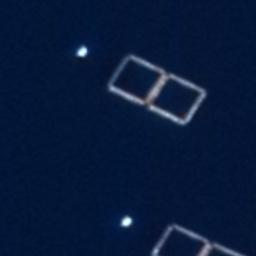square_solid: (139, 68, 211, 132), (99, 51, 172, 112), (146, 217, 217, 256), (196, 236, 252, 256)
